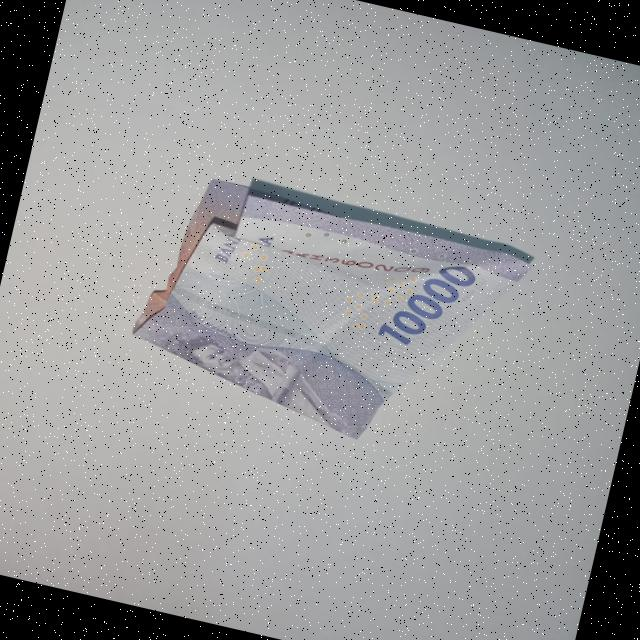10K: (110, 152, 546, 478)
